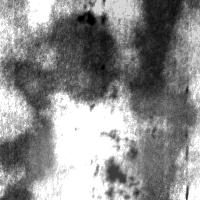patches: (64, 0, 200, 101), (129, 1, 193, 200), (105, 62, 200, 192), (23, 103, 147, 200), (10, 12, 117, 110), (1, 116, 53, 200), (97, 143, 138, 199), (74, 7, 112, 27)
